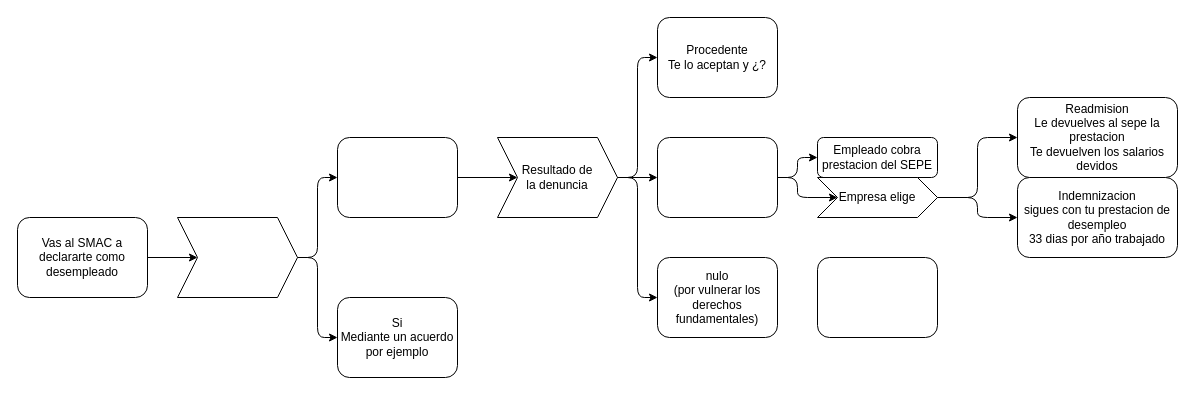
The diagram is 1195 pixels wide and 395 high, and some of its shapes have lost their labels. Here are the shapes that lost their labels. From the top down, the box of each, then its label:
(336, 136, 458, 218): NO se demanda en el juzgado de lo social
(656, 136, 778, 218): Improcedente el despido no es aceptado
(176, 216, 298, 298): Se resuelve el conflicto?
(816, 256, 938, 338): readmision Salario tramitacion
